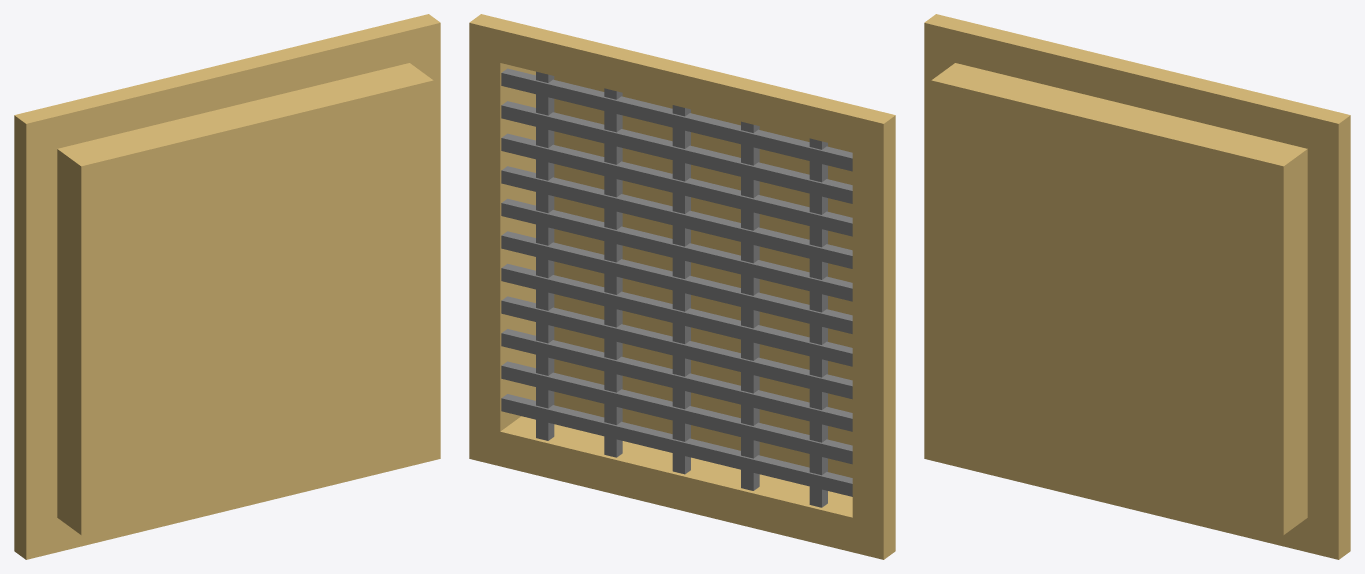
Rendered from Industrial_New_Wall_Panel_Grill.fbx.
3 views of the same model, side by side, from view 1: azimuth 30°, elevation 25°; view 2: azimuth 150°, elevation 25°; view 3: azimuth 330°, elevation 25° (orthographic).
Parts seen in each view (by area): view 1: Cube.002; view 2: Cube.002; view 3: Cube.002.
Part boxes in pixels (x1=…): Cube.002: x1=14, y1=14, x2=440, y2=559; Cube.002: x1=469, y1=14, x2=895, y2=559; Cube.002: x1=924, y1=14, x2=1350, y2=559.
Bounding box in the file's own units: 200 × 201 × 30.
